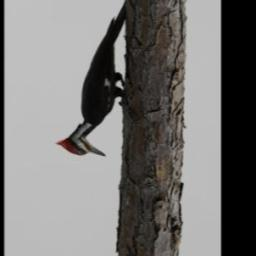Woodpecker: (54, 0, 125, 157)
